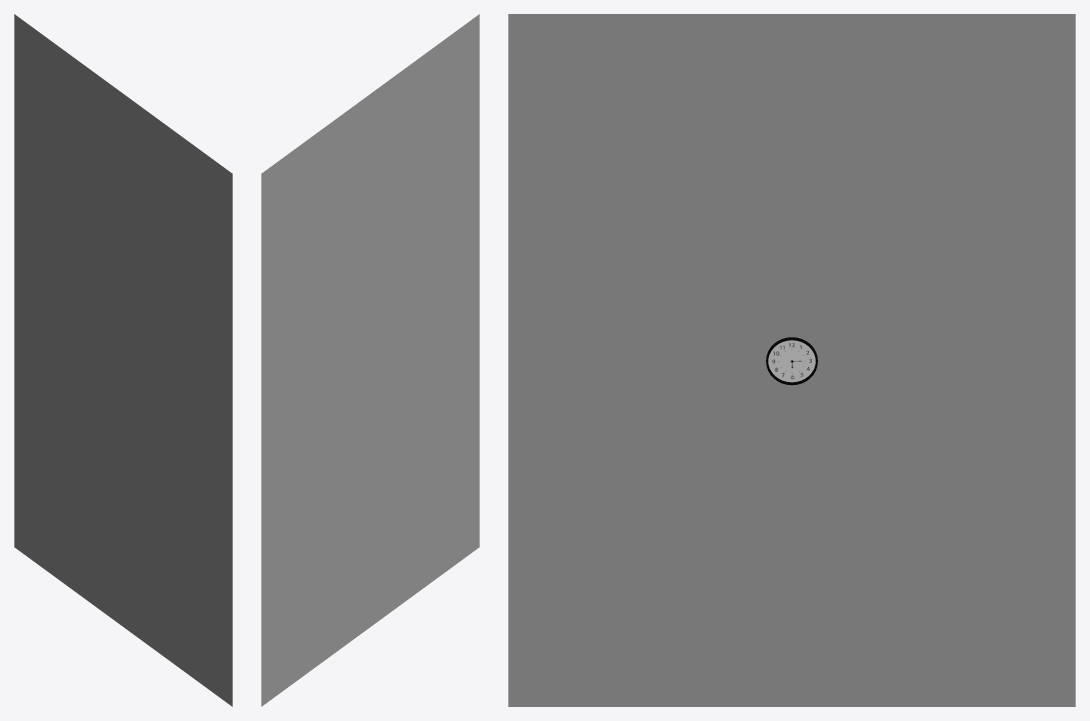
File: clock 1.fbx
3 views of the same model, side by side, from view 1: azimuth 30°, elevation 25°; view 2: azimuth 150°, elevation 25°; view 3: azimuth 270°, elevation 25° (orthographic). The views are drawn at different scales.
Parts seen in each view (by area): view 1: Plane; view 2: Plane; view 3: Plane, clock.
Part boxes in pixels (box(x1,y1,x2,y2)): Plane: box(14, 14, 232, 706); Plane: box(261, 14, 479, 706); Plane: box(508, 14, 1075, 706); clock: box(766, 337, 817, 385).
Bounding box in the file's own units: 11.6 × 2659 × 1972.
2 materials, 1 textured.
